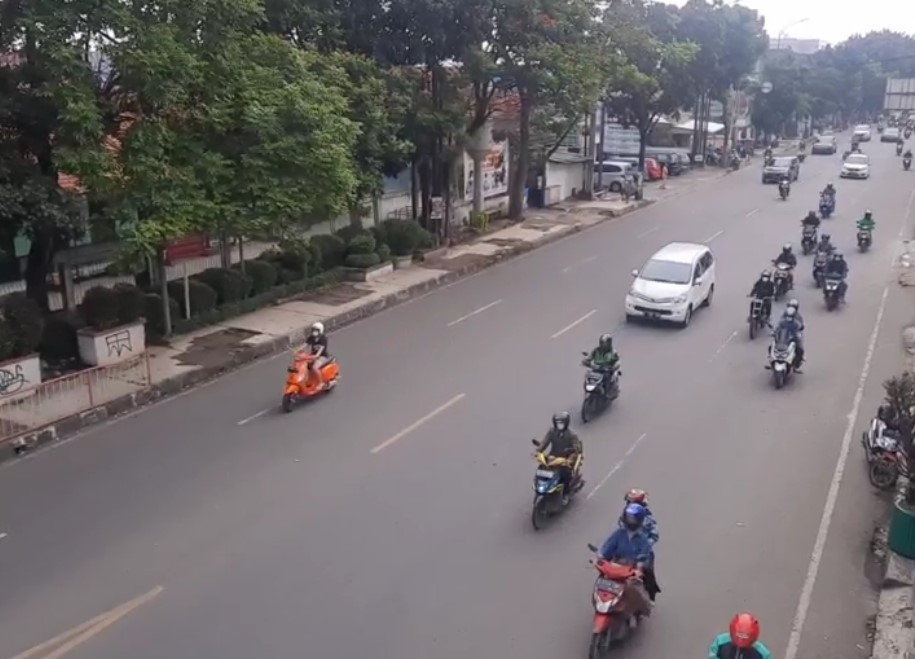motor: (569, 498, 678, 652), (521, 412, 587, 528), (275, 316, 348, 408), (569, 336, 627, 419), (768, 308, 811, 386), (819, 254, 854, 317), (743, 275, 776, 335), (763, 246, 799, 296), (850, 210, 882, 259), (791, 212, 819, 251)
